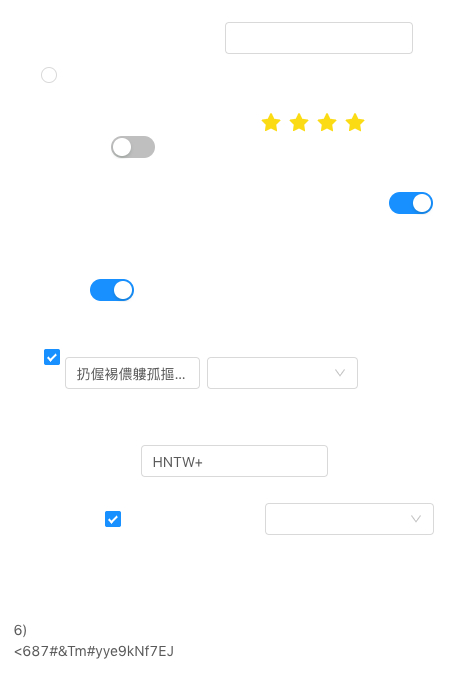Checkbox: (105, 508, 121, 529), (44, 346, 60, 367)
Input: (225, 22, 413, 54), (141, 445, 328, 477), (65, 357, 200, 389)
Radio: (41, 64, 57, 84)
Rate: (261, 106, 381, 138)
Select: (265, 503, 434, 535), (207, 357, 358, 389)
Switch: (90, 278, 134, 302), (111, 135, 155, 159), (389, 191, 433, 215)
Text: (14, 619, 177, 665)
